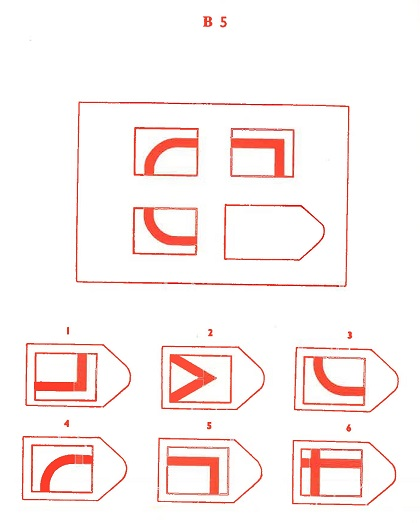Array 1: (22, 323, 133, 411)
Array 2: (157, 324, 269, 414)
Array 3: (290, 327, 403, 418)
Array 4: (19, 415, 130, 505)
Array 5: (153, 417, 269, 507)
Array 6: (287, 421, 401, 508)
Matrix 1: (128, 120, 202, 181)
Matrix 2: (225, 120, 299, 182)
Matrix 3: (128, 201, 201, 261)
Matrix Unknown: (220, 201, 328, 264)
